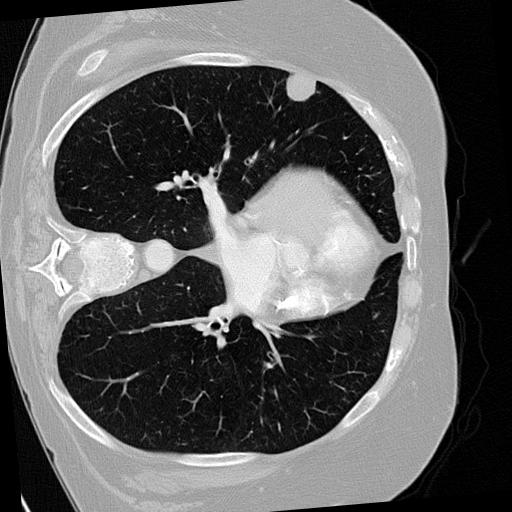nodule: (284, 72, 321, 109)
